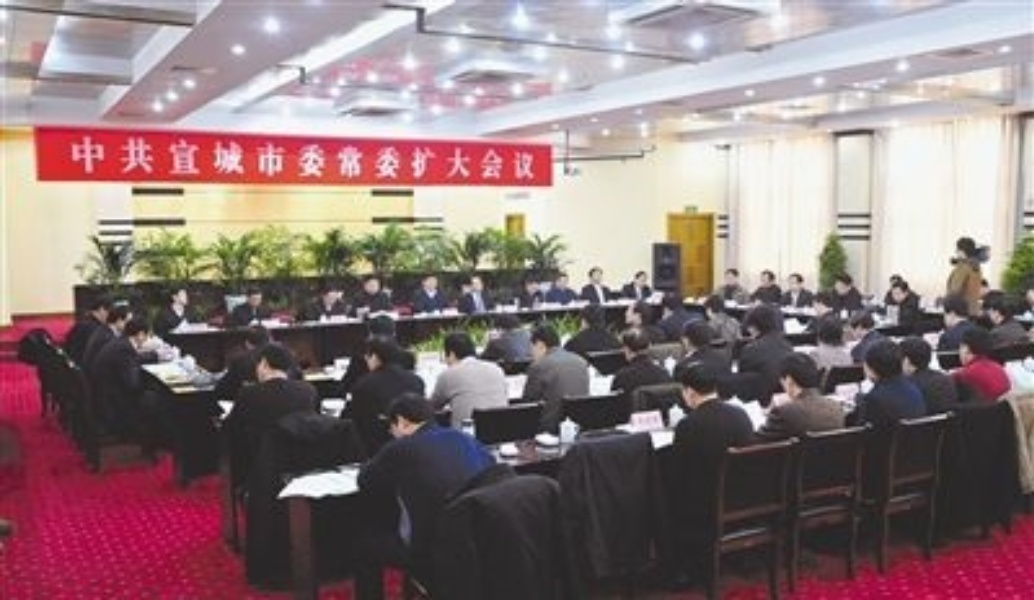text: (65, 132, 80, 184), (81, 132, 96, 184), (97, 132, 112, 184), (113, 132, 128, 184), (129, 132, 144, 184), (145, 132, 160, 184), (161, 132, 176, 184), (177, 132, 192, 184), (193, 132, 208, 184), (209, 132, 224, 184), (225, 132, 240, 184), (241, 132, 256, 184), (257, 132, 272, 184), (273, 132, 288, 184), (289, 132, 304, 184), (305, 132, 320, 184), (321, 132, 336, 184), (337, 132, 352, 184), (353, 132, 368, 184), (369, 132, 384, 184), (385, 132, 400, 184), (401, 132, 416, 184), (417, 132, 432, 184), (433, 132, 448, 184), (449, 132, 464, 184), (465, 132, 480, 184), (481, 132, 496, 184), (497, 132, 512, 184), (513, 132, 528, 184), (529, 132, 543, 184), (63, 132, 64, 184)
